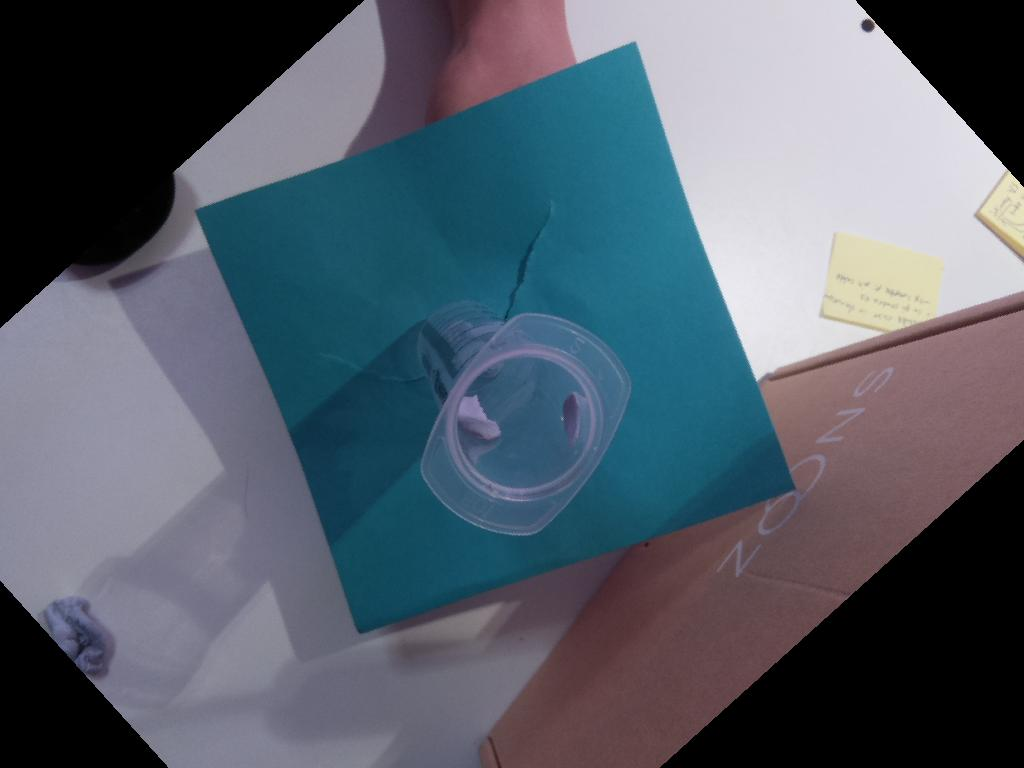dirty: (420, 312, 630, 536)
